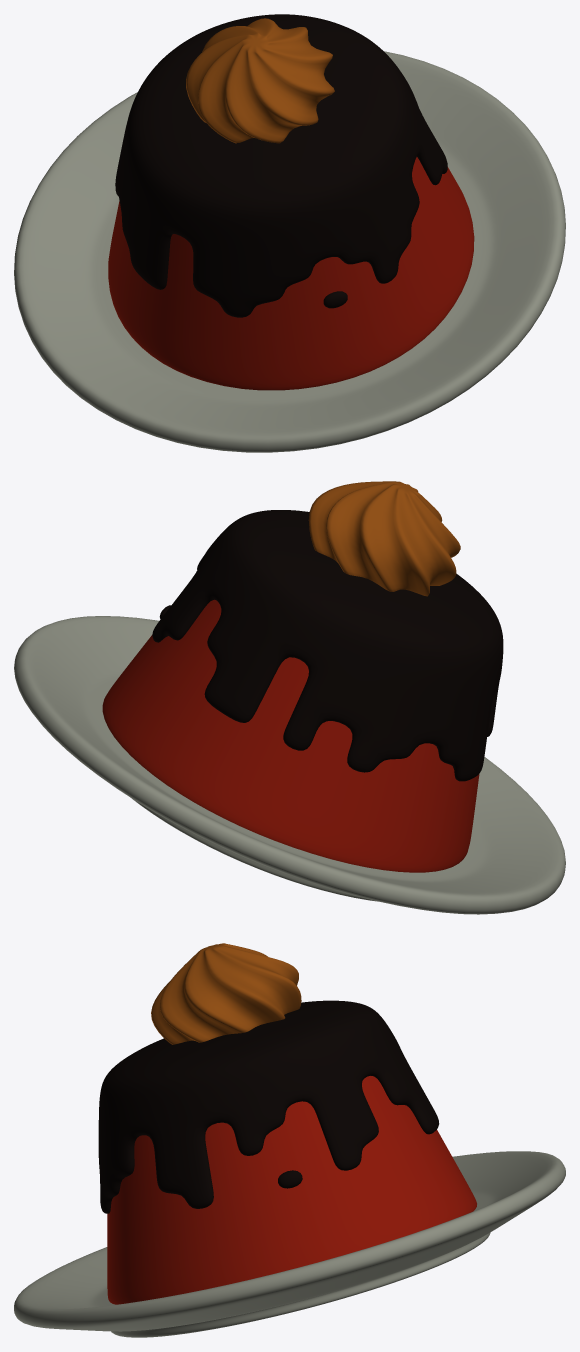
Rendered from Chocolate Pudding.obj.
The picture shows the model from 3 angles, top to bottom: view 1: azimuth 30°, elevation 25°; view 2: azimuth 150°, elevation 25°; view 3: azimuth 270°, elevation 25°; orthographic projection. The views are drawn at different scales.
Visible parts, largest first — view 1: Chocolate_Pudding.002_Circle.018, Chocolate_Pudding_Cube.040, Chocolate_Pudding.003_Cube.038, Chocolate_Pudding.001_Circle.017; view 2: Chocolate_Pudding_Cube.040, Chocolate_Pudding.003_Cube.038, Chocolate_Pudding.002_Circle.018, Chocolate_Pudding.001_Circle.017; view 3: Chocolate_Pudding.003_Cube.038, Chocolate_Pudding_Cube.040, Chocolate_Pudding.002_Circle.018, Chocolate_Pudding.001_Circle.017.
Part boxes in pixels (<box>): Chocolate_Pudding.002_Circle.018: <box>14,51,565,452</box>; Chocolate_Pudding_Cube.040: <box>115,14,447,317</box>; Chocolate_Pudding.003_Cube.038: <box>108,157,474,390</box>; Chocolate_Pudding.001_Circle.017: <box>186,18,334,143</box>; Chocolate_Pudding_Cube.040: <box>152,510,503,781</box>; Chocolate_Pudding.003_Cube.038: <box>102,599,479,872</box>; Chocolate_Pudding.002_Circle.018: <box>14,616,565,914</box>; Chocolate_Pudding.001_Circle.017: <box>308,481,460,596</box>; Chocolate_Pudding.003_Cube.038: <box>107,1076,476,1304</box>; Chocolate_Pudding_Cube.040: <box>98,1000,439,1213</box>; Chocolate_Pudding.002_Circle.018: <box>14,1151,565,1337</box>; Chocolate_Pudding.001_Circle.017: <box>151,943,301,1044</box>.
Size of the model in its own units: 5.32 by 3.9 by 5.35.
